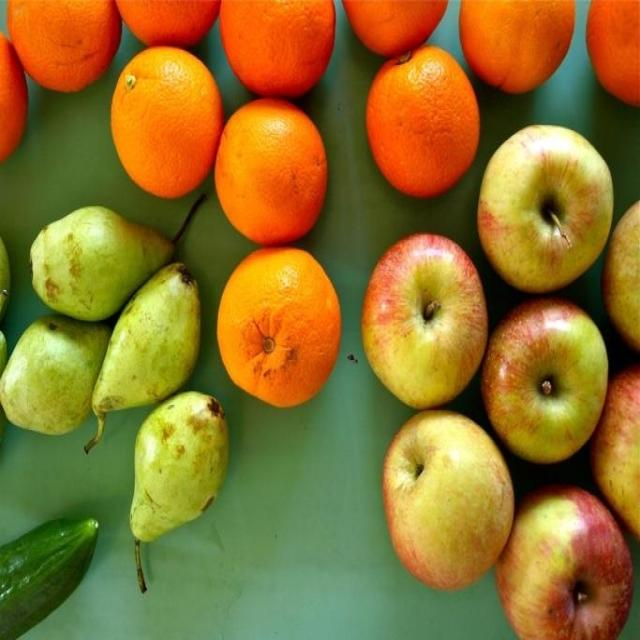Apple: (378, 414, 514, 588), (477, 128, 615, 293), (364, 231, 489, 408), (485, 293, 608, 462), (498, 488, 634, 639), (592, 366, 639, 539), (601, 196, 639, 349)
Cucumber: (0, 511, 98, 637)
Orange: (215, 244, 339, 405), (366, 49, 480, 199), (112, 47, 222, 197), (217, 98, 328, 245), (222, 0, 338, 95), (462, 0, 578, 94), (9, 0, 121, 92), (586, 0, 639, 105), (344, 0, 456, 49), (115, 0, 221, 45), (0, 34, 27, 160)
Pear: (19, 198, 206, 317), (89, 262, 210, 433), (132, 394, 229, 595), (0, 321, 98, 441)
